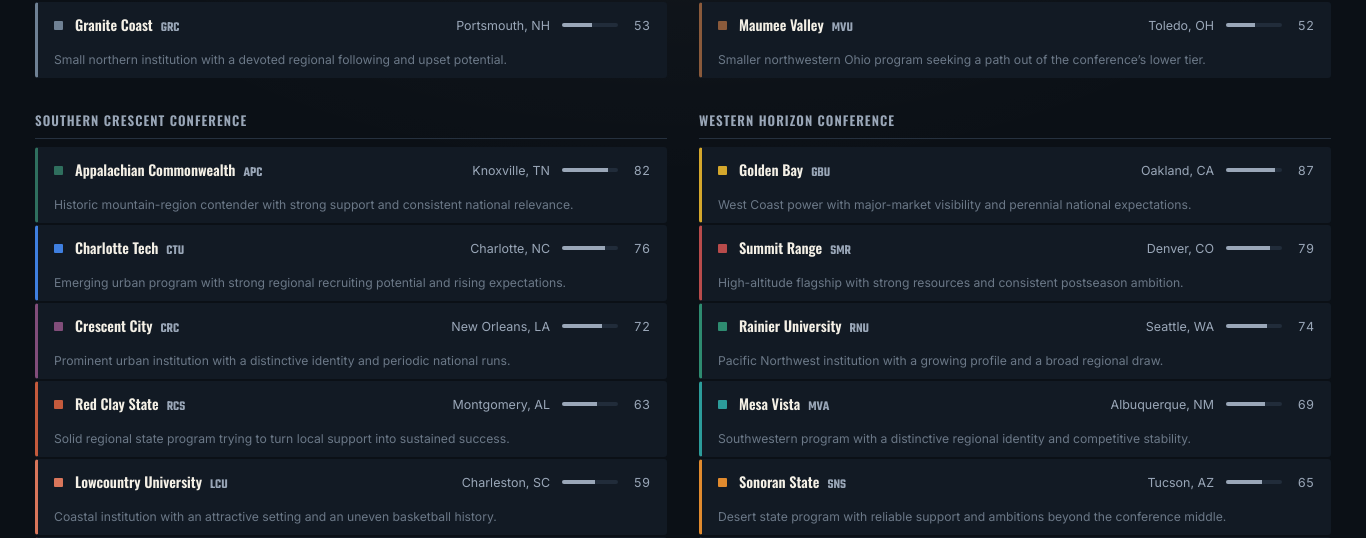
Season Presentation › exposes the fast Simulate Game and detailed Game Prep paths on the Hub
This screenshot has width=1366, height=538.
(page scrolled)
Click the button that starts with "Charlotte Tech" at (117, 247), box [35,225,667,301]
(page scrolled)
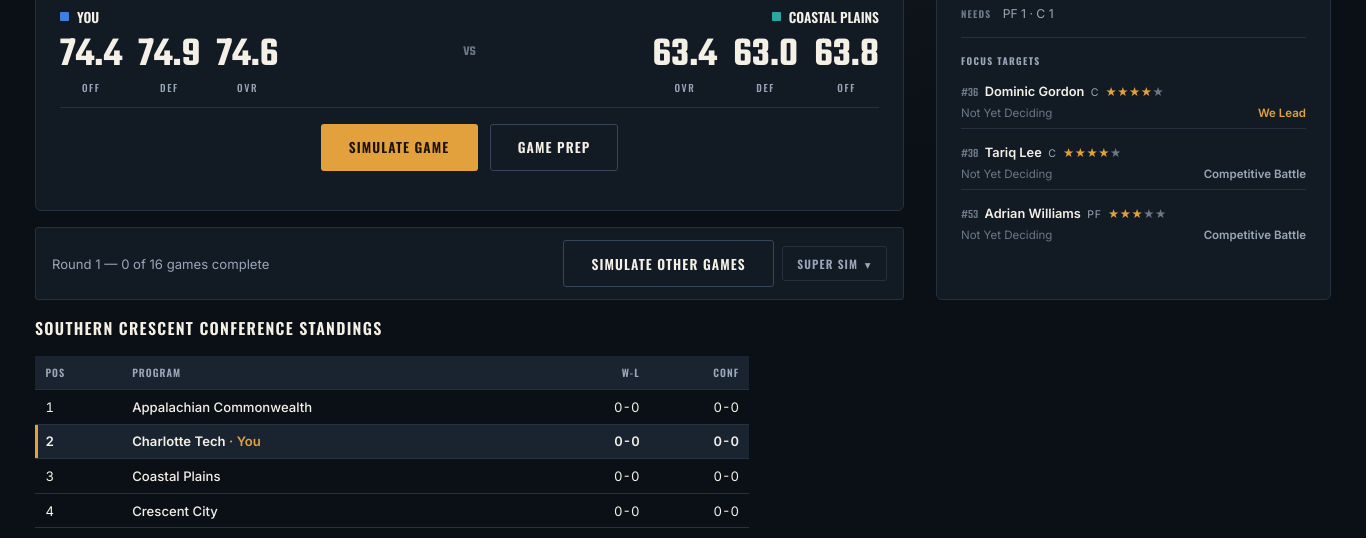
Check: the button "Simulate Game" is shown, box [320,124,478,171]
Check: the button "Game Prep" is shown, box [490,124,618,171]
Check: the button "Simulate Other Games" is shown, box [563,240,774,287]
